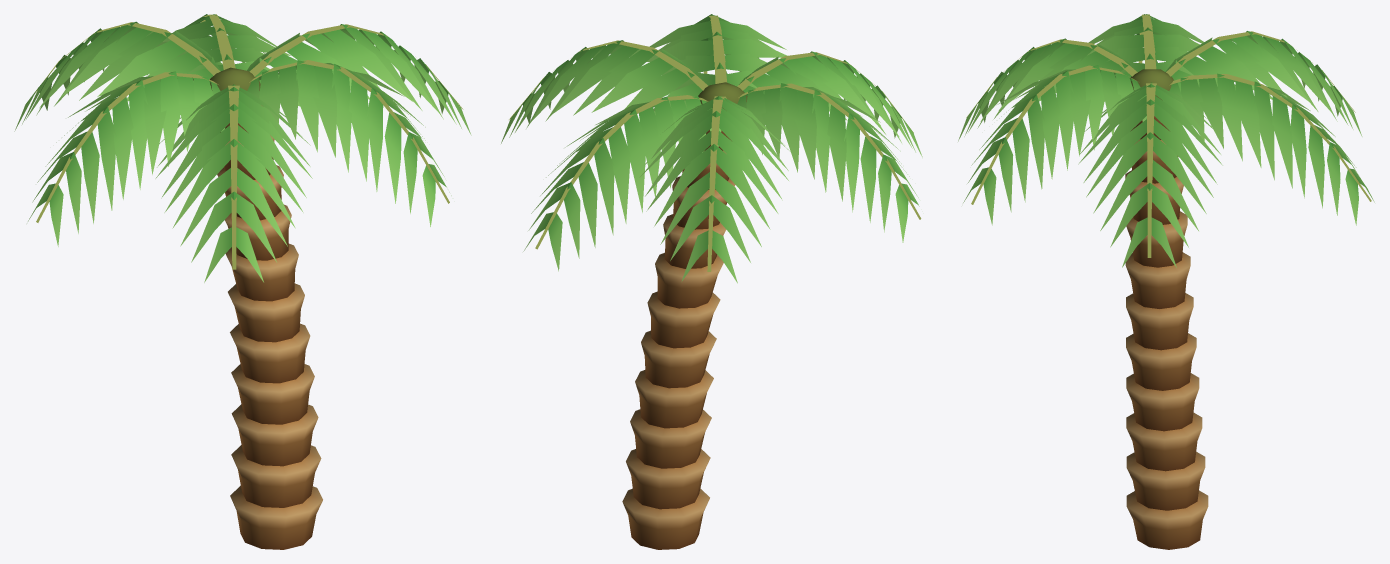
Rendered from palm_ac_b_lod1.glb.
The picture shows the model from 3 angles, left to right: view 1: azimuth 30°, elevation 25°; view 2: azimuth 150°, elevation 25°; view 3: azimuth 270°, elevation 25°; orthographic projection. The views are drawn at different scales.
Visible parts, largest first — view 1: palm_ac_b.001; view 2: palm_ac_b.001; view 3: palm_ac_b.001.
Part boxes in pixels (box(x1,y1,x2,y2)): palm_ac_b.001: box(14, 14, 471, 549); palm_ac_b.001: box(501, 14, 922, 549); palm_ac_b.001: box(958, 14, 1374, 549).
Size of the model in its own units: 3.21 by 3.64 by 2.95.
